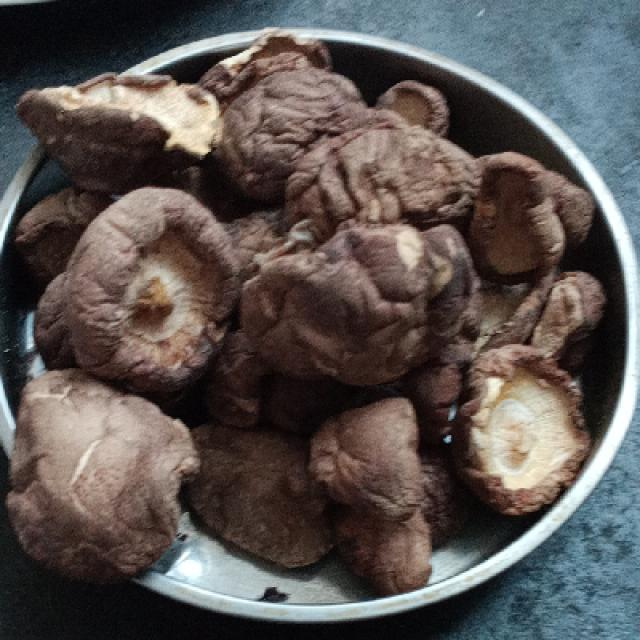Lentinus edodes: (0, 34, 611, 581)
